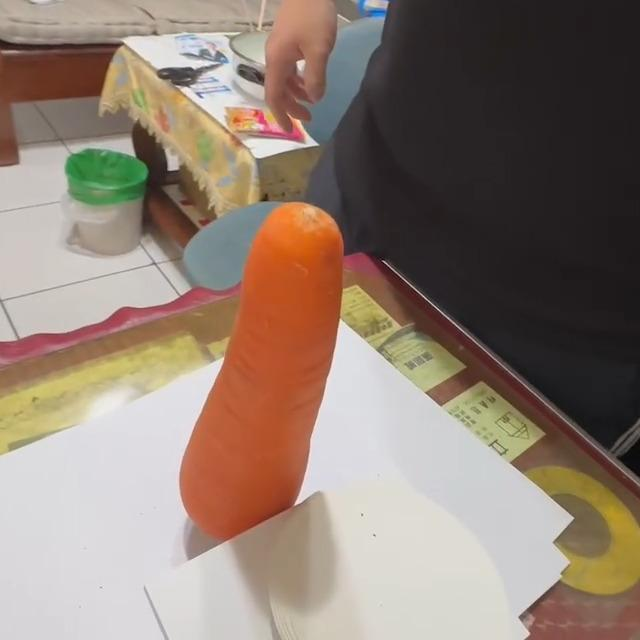carrot: (178, 200, 348, 543)
